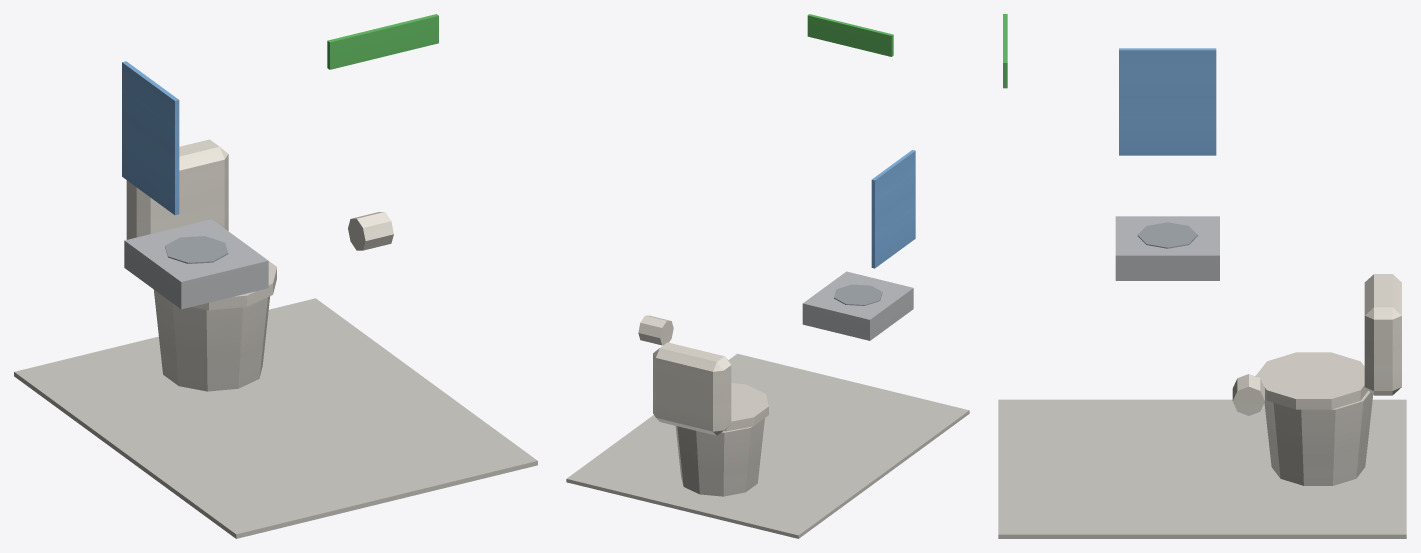
File: Banheiro.glb
3 views of the same model, side by side, from view 1: azimuth 30°, elevation 25°; view 2: azimuth 150°, elevation 25°; view 3: azimuth 270°, elevation 25° (orthographic). The views are drawn at different scales.
Visible parts, largest first — view 1: Banheiro_Malha; view 2: Banheiro_Malha; view 3: Banheiro_Malha.
Part boxes in pixels (x1=…): Banheiro_Malha: x1=14, y1=14, x2=537, y2=538; Banheiro_Malha: x1=566, y1=14, x2=969, y2=538; Banheiro_Malha: x1=998, y1=14, x2=1406, y2=538.
Bounding box in the file's own units: 1.38 × 2.06 × 1.76.
Materials: 1 (1 with a texture image).
